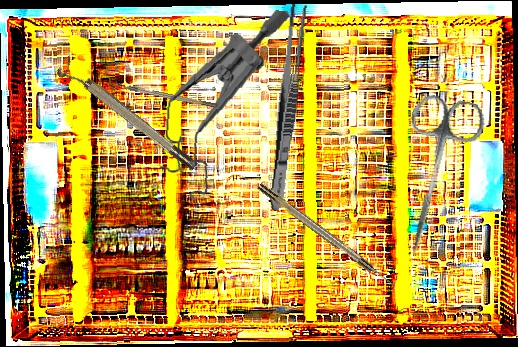Dressing Forceps: (266, 3, 308, 212)
Fixation Ring: (54, 55, 201, 179)
Hook Surgical: (257, 181, 396, 290), (110, 81, 217, 109)
Iris Scissors: (380, 90, 489, 264)
Speculum: (155, 1, 291, 207)
